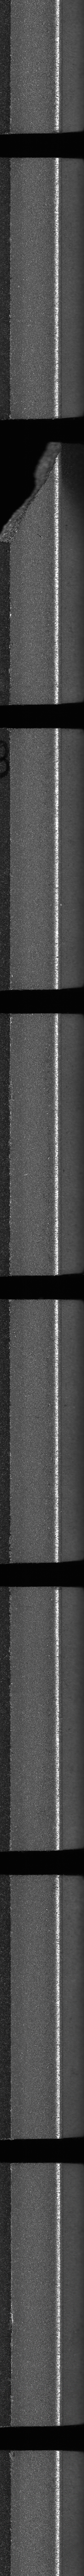Chip: (0, 440, 62, 546)
